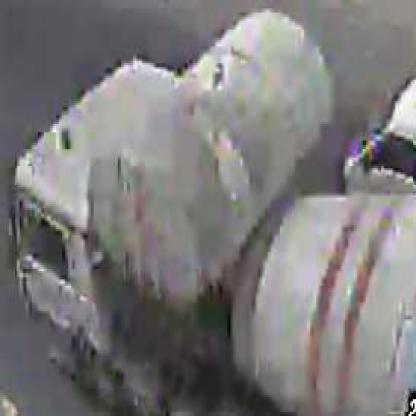truck: (18, 9, 416, 415)
